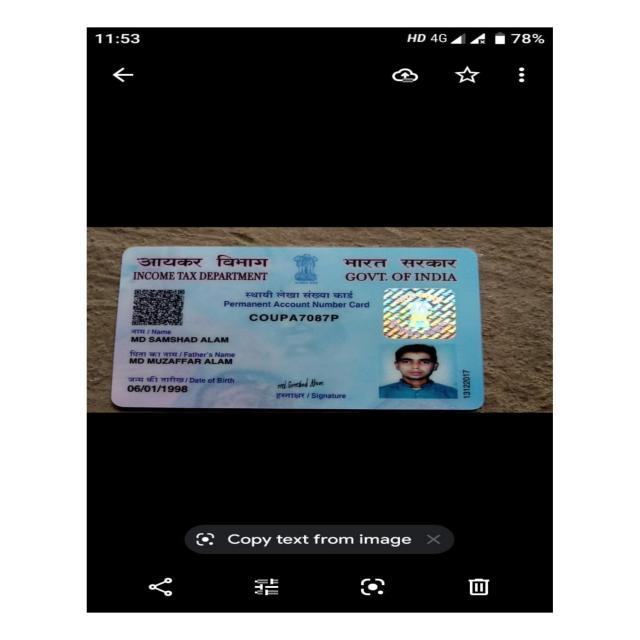pan_card: (112, 247, 479, 408)
